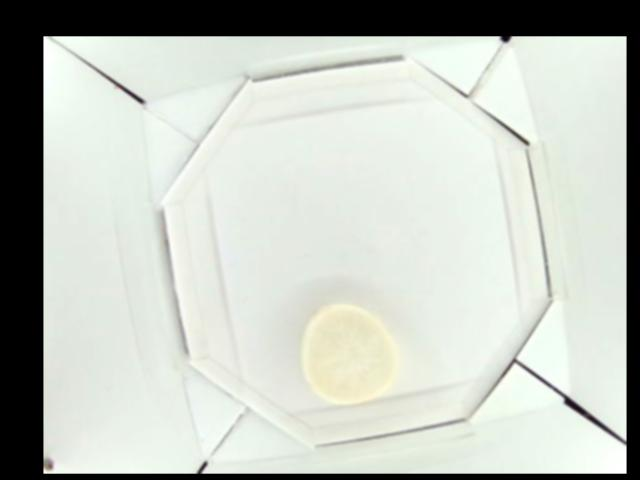Mooli: (301, 301, 398, 406)
